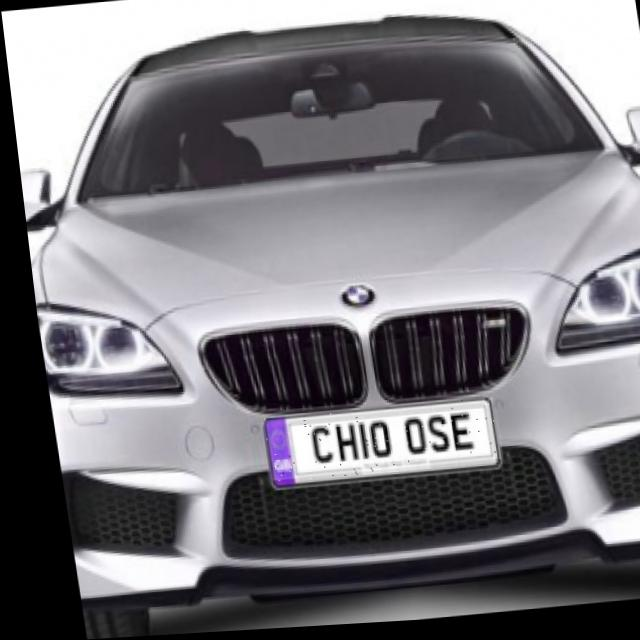license_plate: (252, 403, 490, 486)
